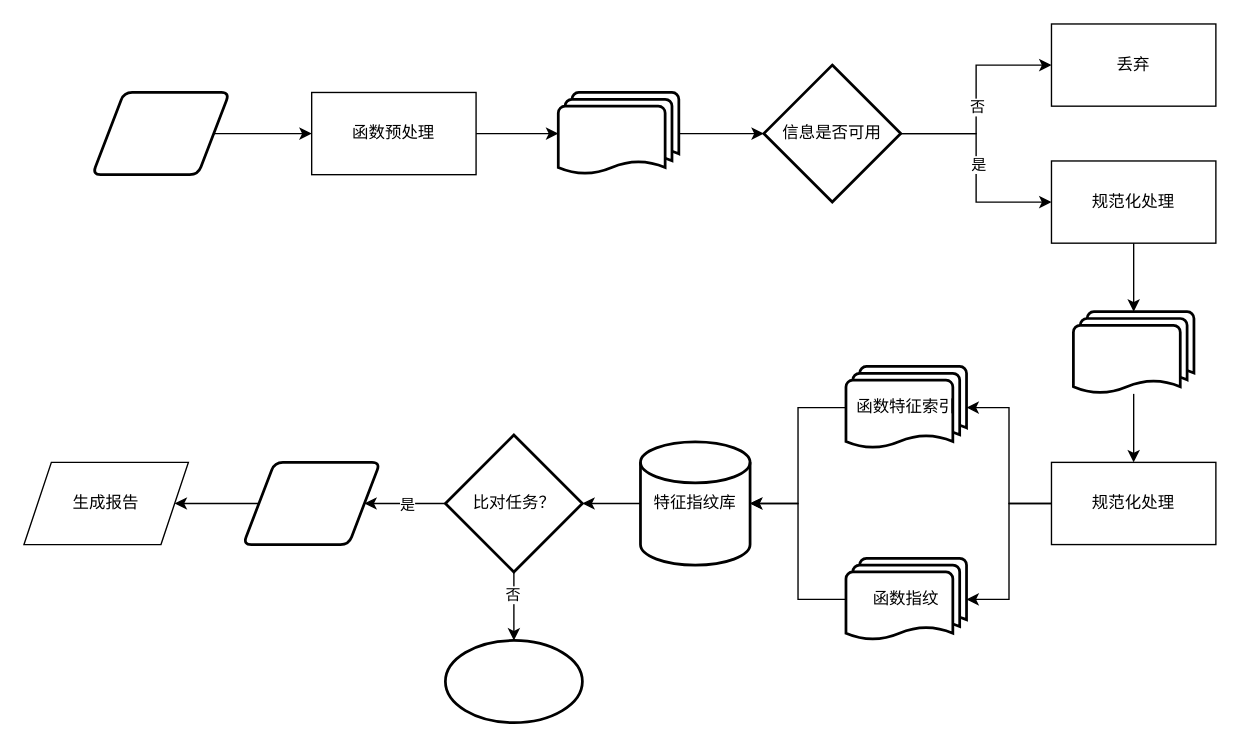
Some shapes in this 1240 by 748 pixel diagram are drawn without their labels. Here are the shapes that lost their labels. From the top down, the centre of each, then its label:
(x=160, y=132): 输入代码仓库
(x=618, y=132): 函数原始信息
(x=1133, y=352): 规范化函数信息
(x=311, y=502): 相似计算
(x=513, y=680): 结束
